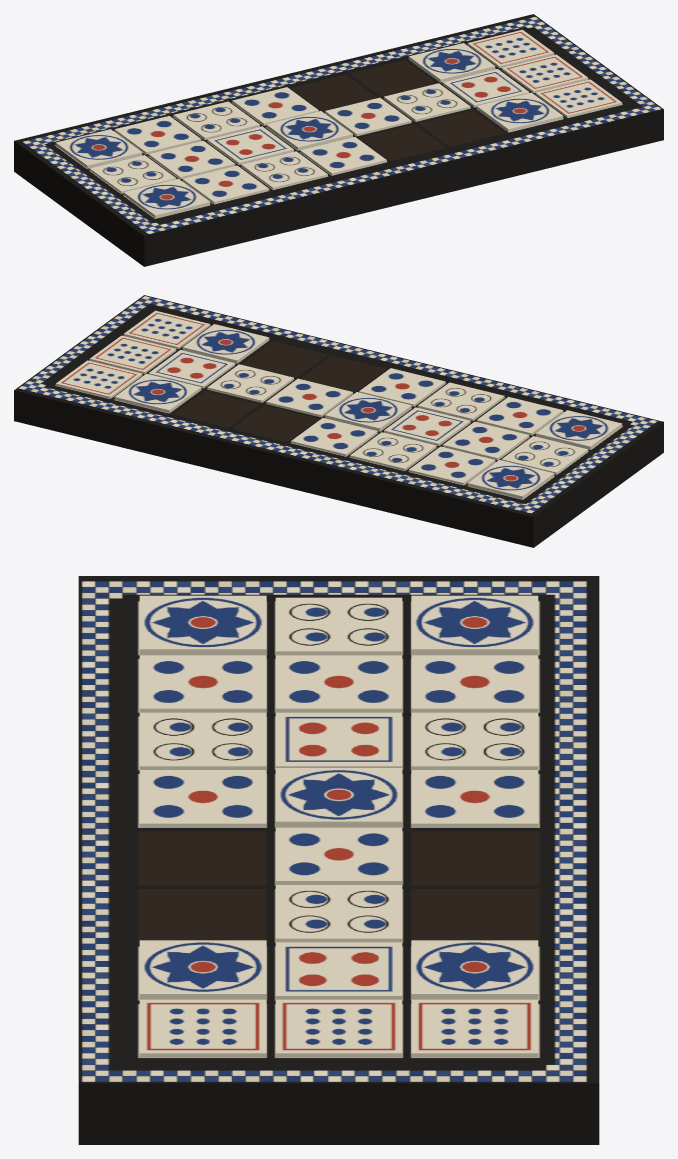
Rendered from board.glb.
3 views of the same model, one above another, from view 1: azimuth 30°, elevation 25°; view 2: azimuth 150°, elevation 25°; view 3: azimuth 270°, elevation 25° (orthographic). The views are drawn at different scales.
Visible parts, largest first — view 1: board; view 2: board; view 3: board.
Part boxes in pixels (x1,y1,x2,y2): board: (14, 14, 663, 266); board: (14, 295, 663, 547); board: (78, 576, 599, 1144).
Bounding box in the file's own units: 0.53 × 0.033 × 0.23.
Materials: 1 (1 with a texture image).
